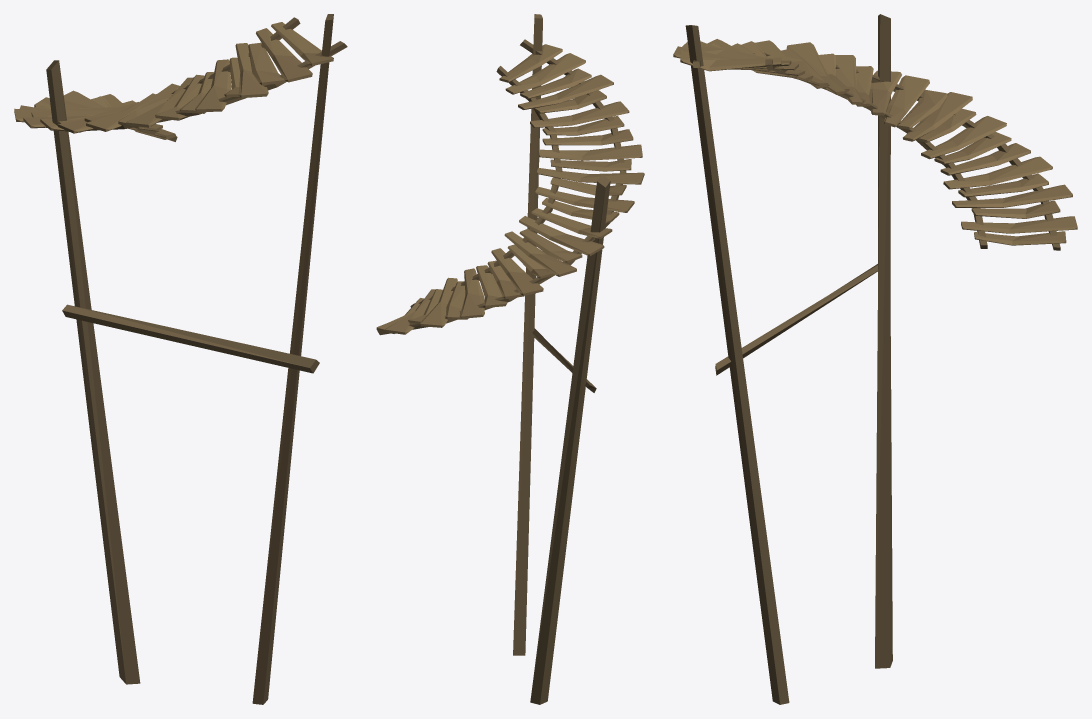
The model's file is SM_Bld_Rickety_Dock_Stairs_Curved_01.glb.
The picture shows the model from 3 angles, left to right: view 1: azimuth 30°, elevation 25°; view 2: azimuth 150°, elevation 25°; view 3: azimuth 270°, elevation 25°; orthographic projection. The views are drawn at different scales.
Visible parts, largest first — view 1: SM_Bld_Rickety_Dock_Stairs_Curved_01_part00; view 2: SM_Bld_Rickety_Dock_Stairs_Curved_01_part00; view 3: SM_Bld_Rickety_Dock_Stairs_Curved_01_part00.
Part boxes in pixels (left/top/right/bottom): SM_Bld_Rickety_Dock_Stairs_Curved_01_part00: left=14, top=14, right=347, bottom=704; SM_Bld_Rickety_Dock_Stairs_Curved_01_part00: left=376, top=14, right=644, bottom=704; SM_Bld_Rickety_Dock_Stairs_Curved_01_part00: left=673, top=14, right=1077, bottom=704.
Bounding box in the file's own units: 3.17 × 10.46 × 5.56.
1 material, 1 textured.
